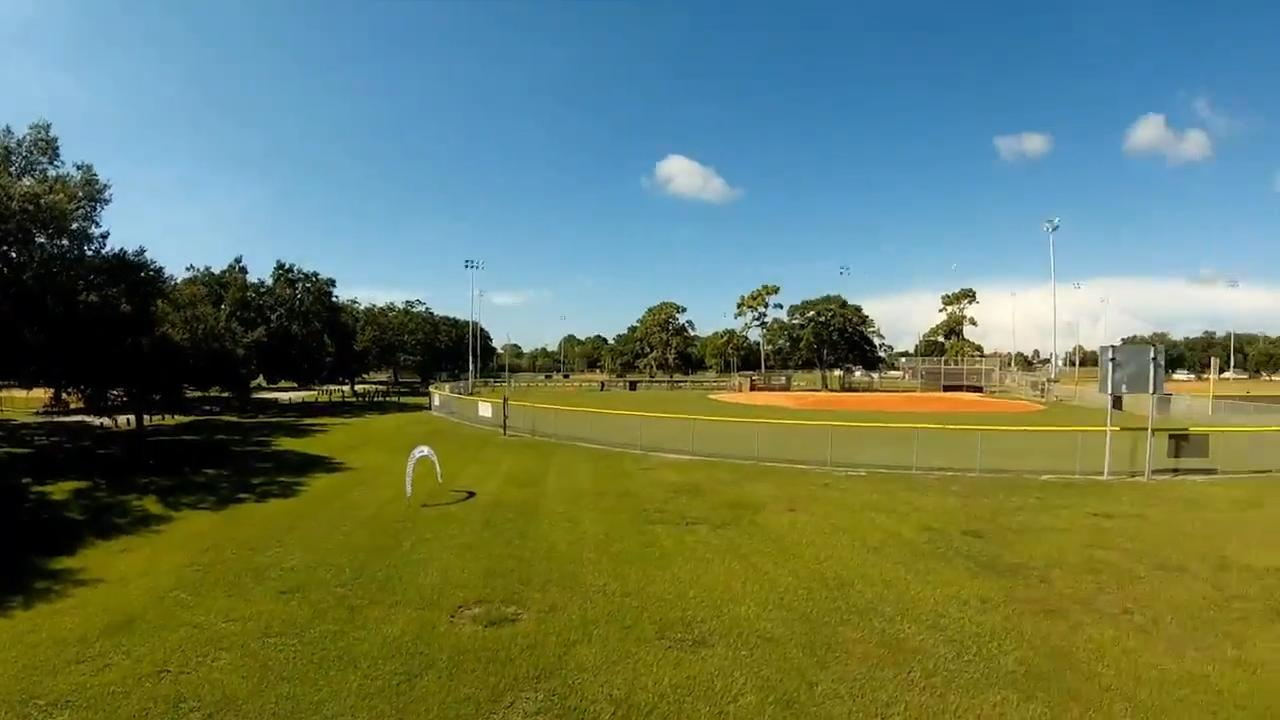gate: (403, 441, 444, 497)
